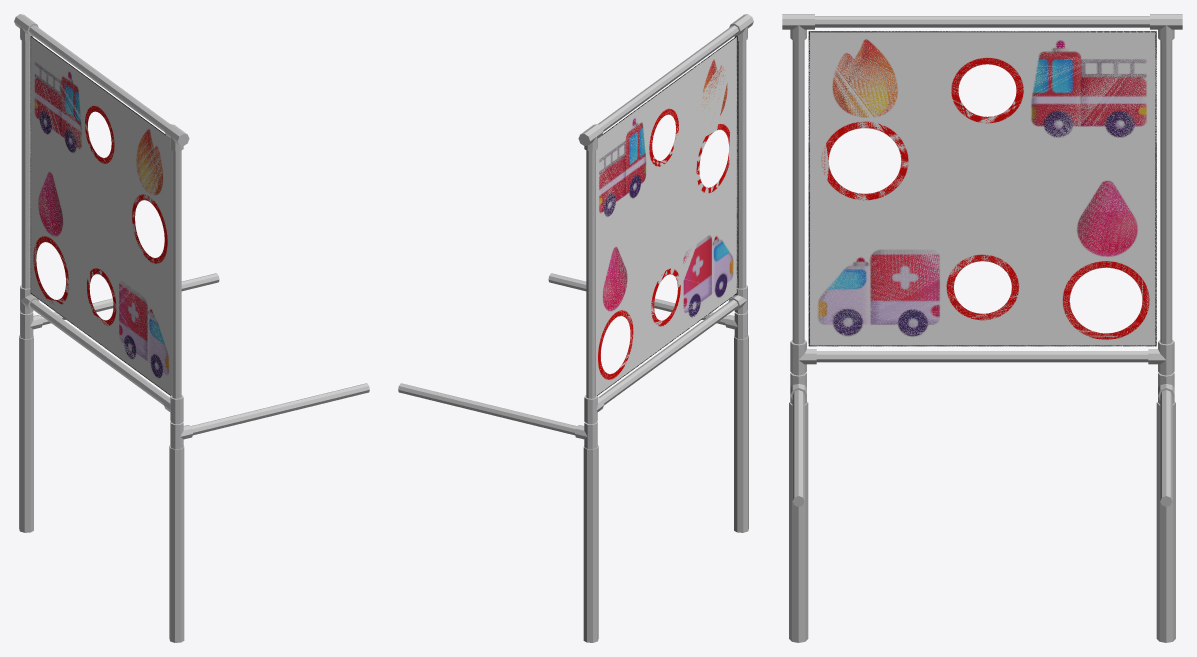
The model's file is torpedoMapping_2026_v1.obj.
The picture shows the model from 3 angles, left to right: view 1: azimuth 30°, elevation 25°; view 2: azimuth 150°, elevation 25°; view 3: azimuth 270°, elevation 25°; orthographic projection. The views are drawn at different scales.
Parts seen in each view (by area): view 1: Plane, Cylinder.006, Cylinder.005, Cylinder.003, Cylinder.015, Cylinder.001; view 2: Plane, Cylinder.006, Cylinder.003, Cylinder.005, Cylinder.001, Cylinder.015; view 3: Plane, Cylinder.006, Cylinder.005, Cylinder.003, Cylinder.015, Cylinder.001.
Boxes of the visible parts, x1,y1,x2,y2 form: Plane: [30, 36, 171, 395]; Cylinder.006: [14, 14, 189, 423]; Cylinder.005: [169, 445, 184, 642]; Cylinder.003: [19, 335, 33, 532]; Cylinder.015: [170, 383, 369, 449]; Cylinder.001: [20, 273, 219, 339]; Plane: [596, 36, 737, 395]; Cylinder.006: [578, 14, 753, 423]; Cylinder.003: [583, 445, 598, 642]; Cylinder.005: [734, 335, 748, 532]; Cylinder.001: [398, 383, 597, 449]; Cylinder.015: [548, 273, 747, 339]; Plane: [808, 31, 1156, 346]; Cylinder.006: [782, 14, 1182, 374]; Cylinder.005: [789, 402, 808, 642]; Cylinder.003: [1156, 402, 1175, 642]; Cylinder.015: [790, 372, 806, 506]; Cylinder.001: [1158, 372, 1174, 506].
Size of the model in its own units: 0.4882 by 1.21 by 0.7017.
Materials: 3 (1 with a texture image).
